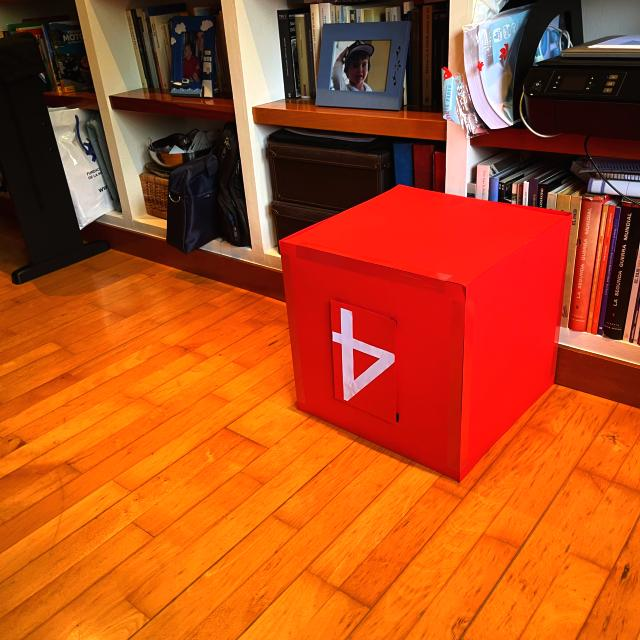box: (274, 181, 574, 484)
